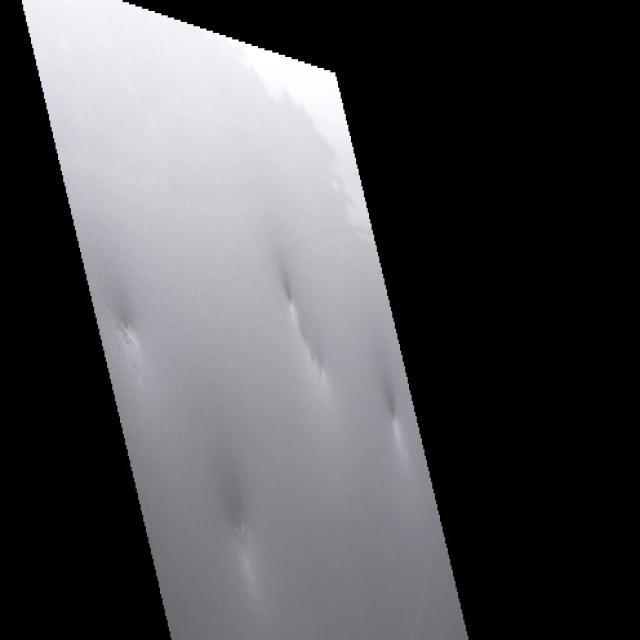dent: (276, 266, 343, 378), (196, 510, 274, 591), (113, 306, 161, 372), (371, 389, 413, 455)
